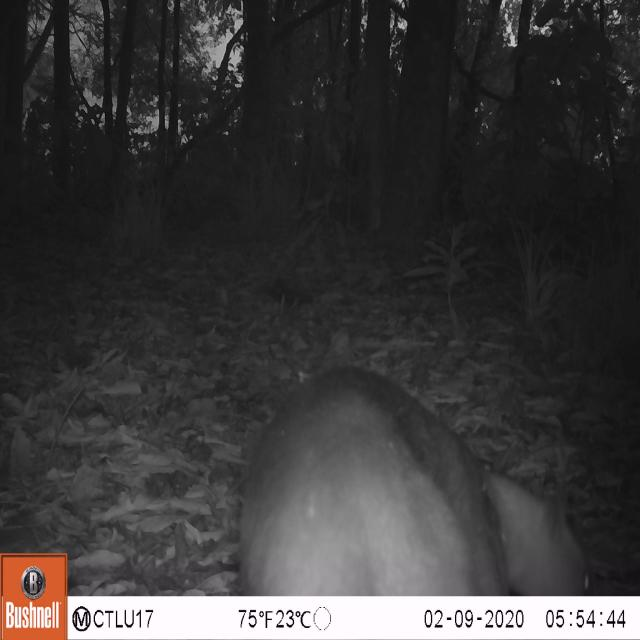Southern Tamandua: (222, 356, 597, 596)
